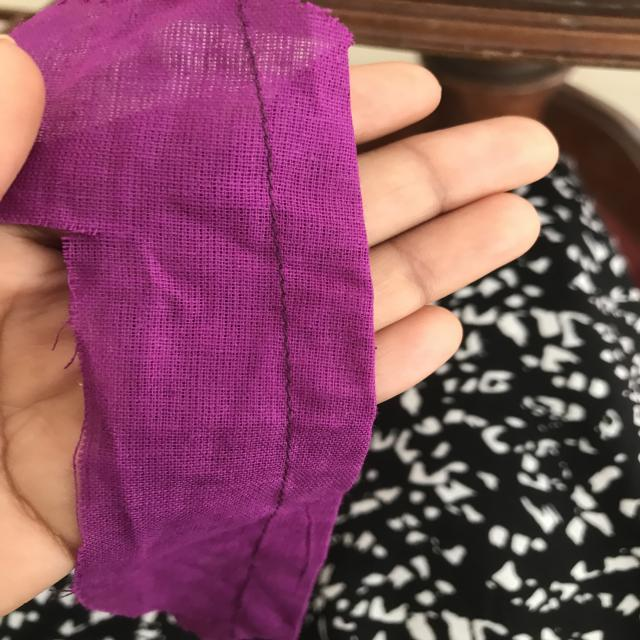good: (240, 117, 300, 221), (250, 243, 306, 344), (269, 362, 310, 414)
